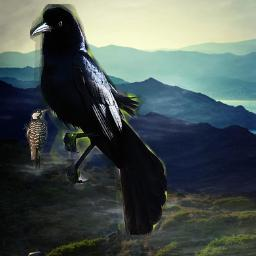Crow: (30, 4, 167, 235)
Woodpecker: (21, 109, 49, 174)
